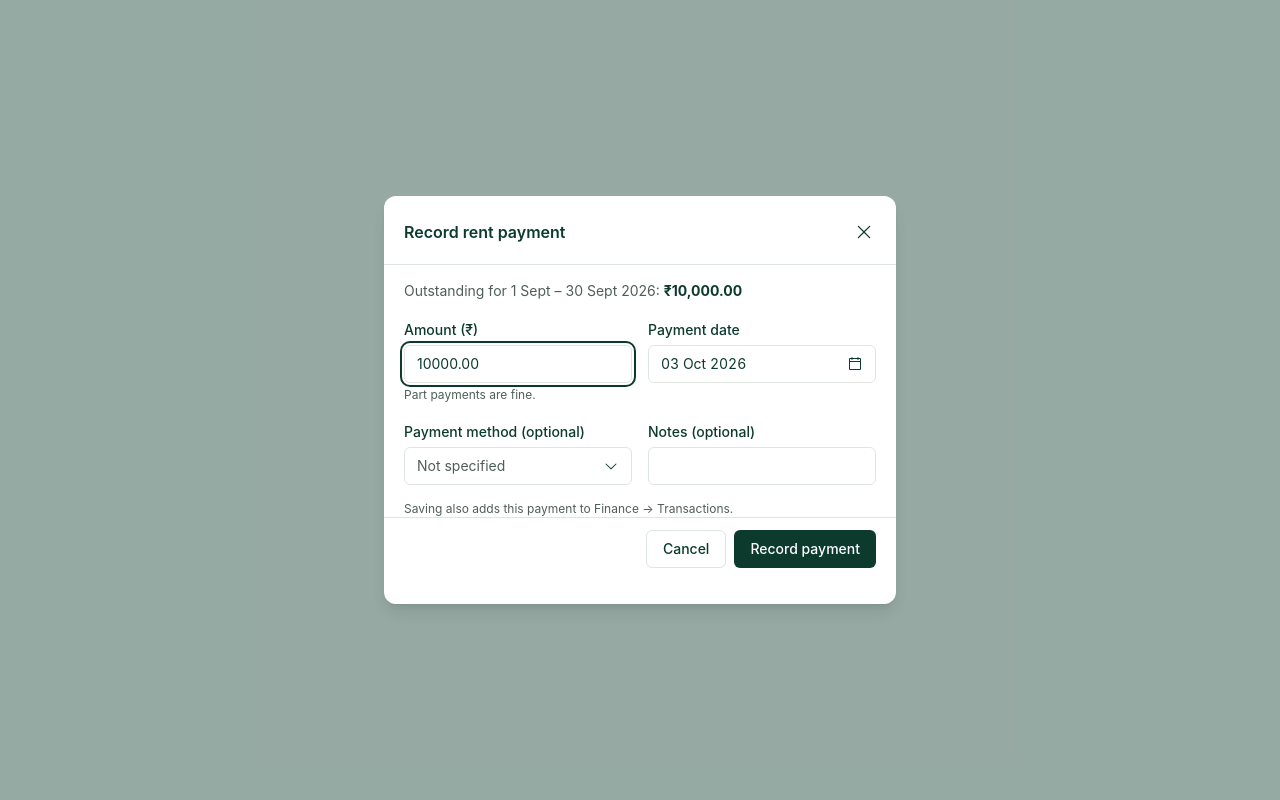
Test: RentPaymentDialog › explains a server-side rejection and stays open
Click the button "Record payment" at (805, 549), box [734,530,876,568]
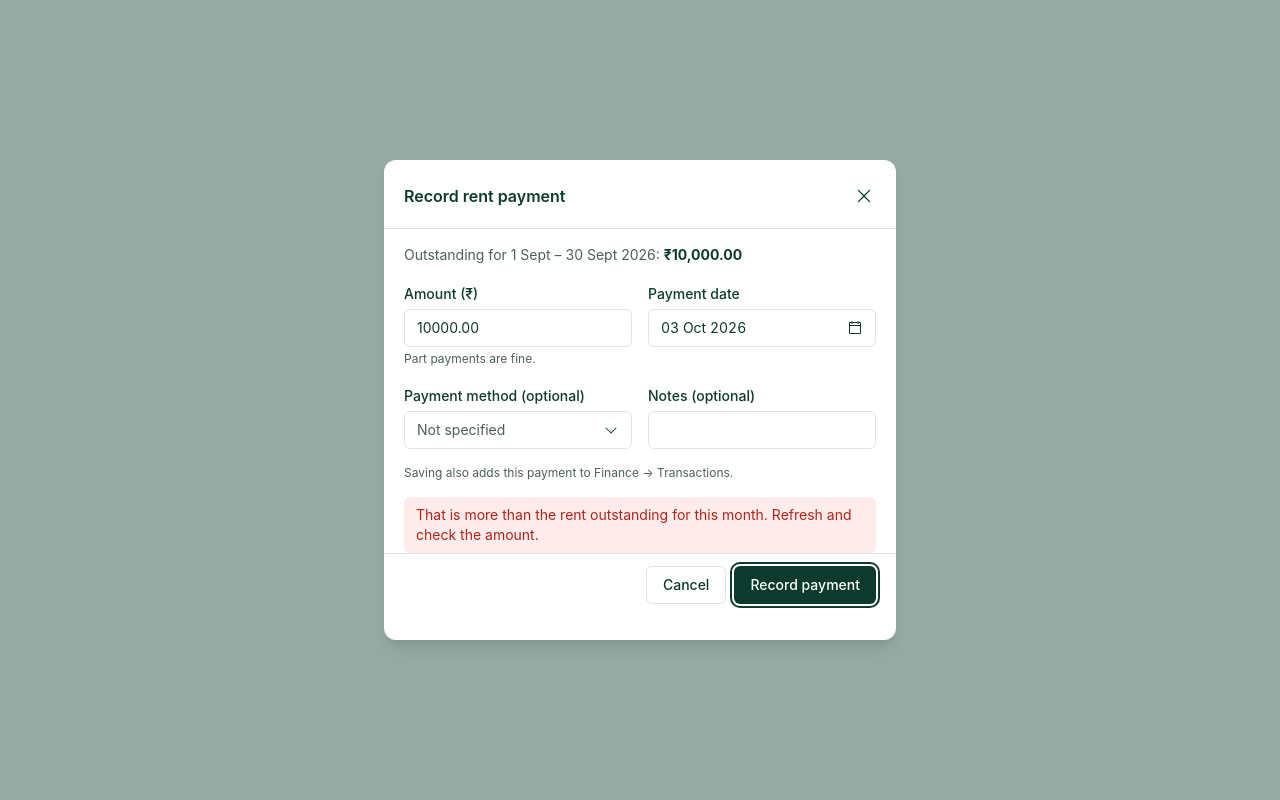
Now the text "more than the rent outstanding for this month. Refresh" is shown, box [416,506,852,543]
